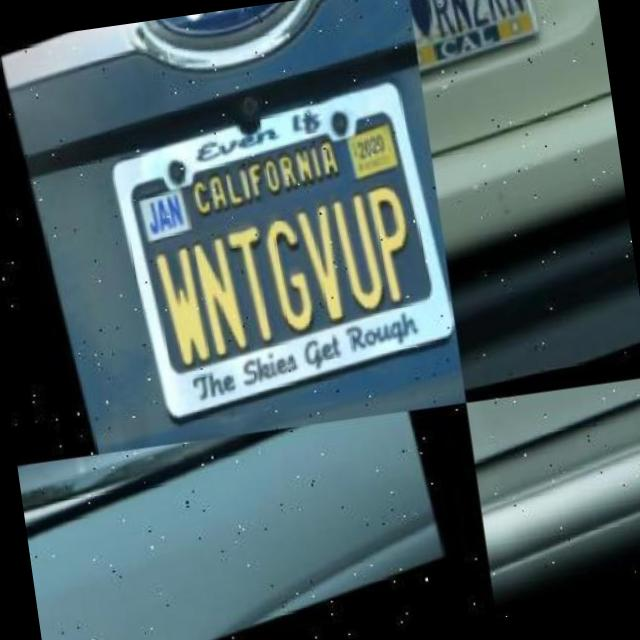LicensePlate: (96, 62, 466, 443), (467, 377, 640, 538), (408, 0, 549, 81), (52, 444, 185, 525)
